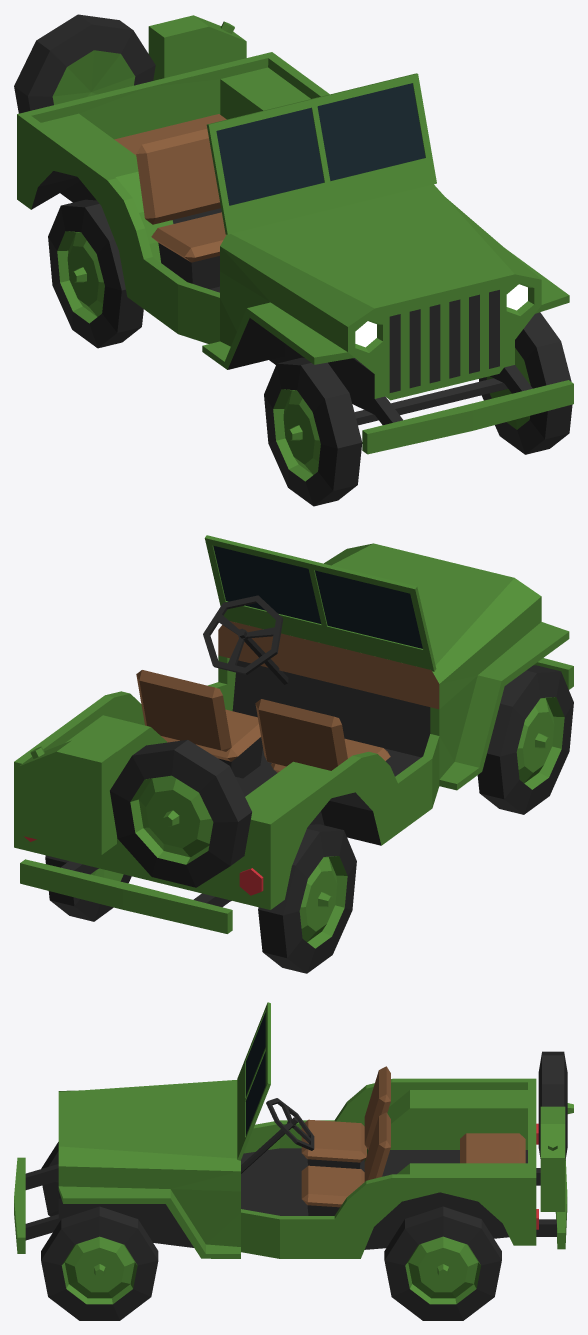
Rendered from Jeep-willys.glb.
3 renders of one model, top to bottom at view 1: azimuth 30°, elevation 25°; view 2: azimuth 150°, elevation 25°; view 3: azimuth 270°, elevation 25°, orthographic. The views are drawn at different scales.
Parts seen in each view (by area): view 1: Jeep-willys-base, willys-wheel_FR, willys-wheel_BR, willys-wheel_FL; view 2: Jeep-willys-base, willys-wheel_FR, willys-wheel_BR, willys-wheel_BL; view 3: Jeep-willys-base, willys-wheel_FL, willys-wheel_BL, willys-wheel_FR.
Boxes of the visible parts, left/top/right/bottom form: Jeep-willys-base: left=14, top=14, right=573, bottom=454; willys-wheel_FR: left=264, top=357, right=362, bottom=506; willys-wheel_BR: left=48, top=199, right=143, bottom=348; willys-wheel_FL: left=479, top=312, right=572, bottom=454; Jeep-willys-base: left=14, top=535, right=573, bottom=933; willys-wheel_FR: left=477, top=665, right=573, bottom=814; willys-wheel_BR: left=258, top=824, right=356, bottom=973; willys-wheel_BL: left=45, top=855, right=131, bottom=921; Jeep-willys-base: left=14, top=1002, right=573, bottom=1258; willys-wheel_FL: left=41, top=1206, right=158, bottom=1320; willys-wheel_BL: left=384, top=1206, right=501, bottom=1320; willys-wheel_FR: left=41, top=1142, right=58, bottom=1216.
Size of the model in its own units: 1.7 by 1.84 by 4.01.
Materials: 1 (1 with a texture image).
